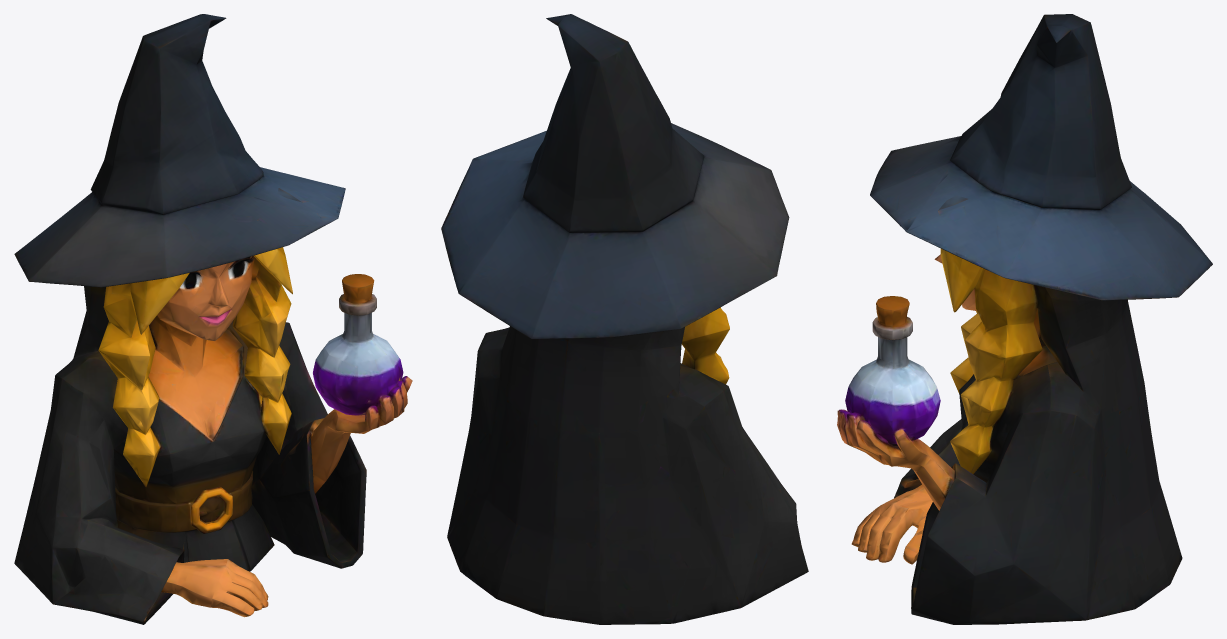
The model's file is nvwu.glb.
3 renders of one model, left to right at view 1: azimuth 30°, elevation 25°; view 2: azimuth 150°, elevation 25°; view 3: azimuth 270°, elevation 25°, orthographic. The views are drawn at different scales.
Visible parts, largest first — view 1: node_0; view 2: node_0; view 3: node_0.
Boxes of the visible parts, box(x1,y1,x2,y2) form: node_0: box(14, 14, 412, 624); node_0: box(441, 14, 808, 624); node_0: box(837, 14, 1212, 624).
Size of the model in its own units: 0.6452 by 1.04 by 0.6383.
Materials: 1 (1 with a texture image).
